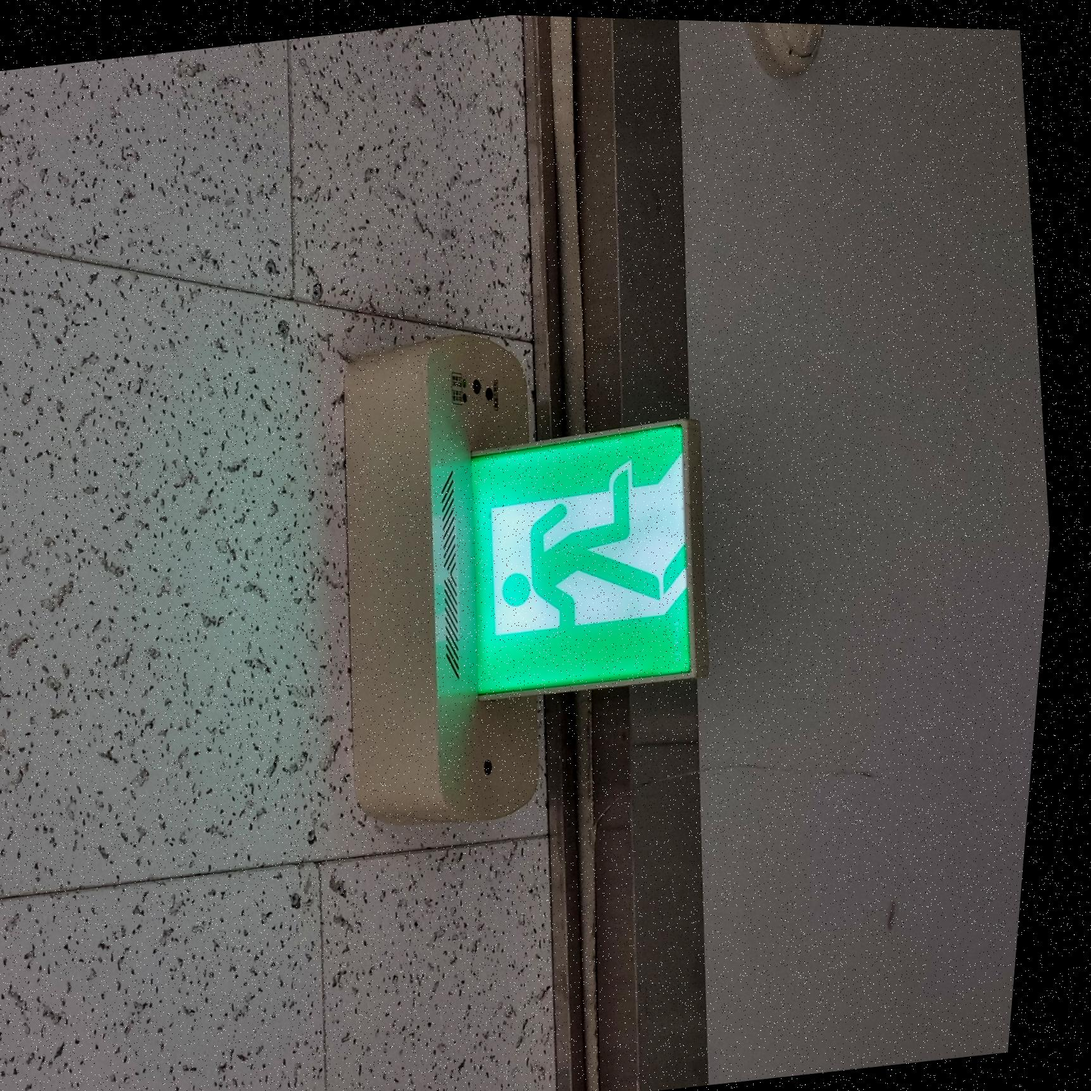emergency_exit: (343, 333, 545, 825), (462, 416, 701, 699)
